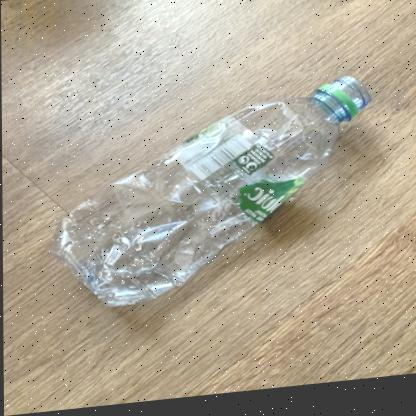Plastic: (49, 83, 370, 308)
